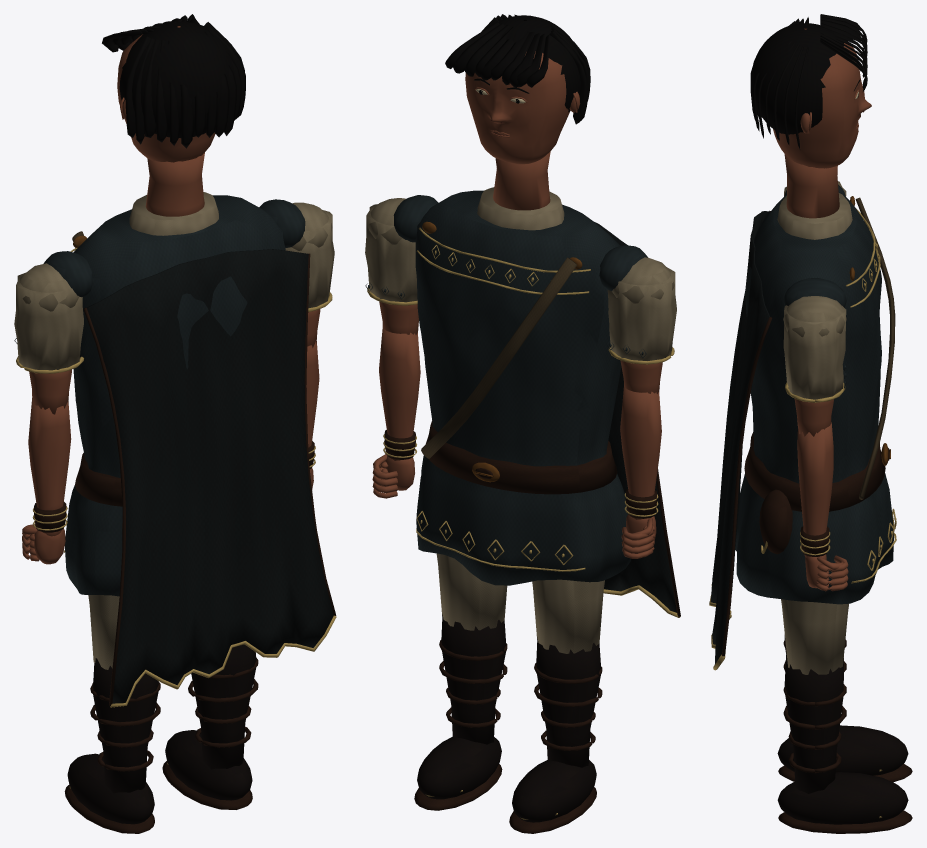
Rendered from traveler_lod1.glb.
3 views of the same model, side by side, from view 1: azimuth 30°, elevation 25°; view 2: azimuth 150°, elevation 25°; view 3: azimuth 270°, elevation 25° (orthographic). The views are drawn at different scales.
Visible parts, largest first — view 1: Traveler_Torso.001, Traveler_Head.001, Traveler_UpperArm_0.001, Traveler_Shin_0.001, Traveler_Shin_1.001, Traveler_Forearm_0.001, Traveler_Foot_0.001, Traveler_Foot_1.001, Traveler_UpperArm_1.001, Traveler_Thigh_0.001, Traveler_Hand_0.001, Traveler_Forearm_1.001; view 2: Traveler_Torso.001, Traveler_Head.001, Traveler_UpperArm_0.001, Traveler_Shin_0.001, Traveler_Shin_1.001, Traveler_UpperArm_1.001, Traveler_Foot_1.001, Traveler_Foot_0.001, Traveler_Thigh_0.001, Traveler_Forearm_0.001, Traveler_Forearm_1.001, Traveler_Thigh_1.001 (+2 smaller); view 3: Traveler_Torso.001, Traveler_Head.001, Traveler_UpperArm_1.001, Traveler_Foot_1.001, Traveler_Shin_1.001, Traveler_Thigh_1.001, Traveler_Forearm_1.001, Traveler_Foot_0.001, Traveler_Hand_1.001.
Part boxes in pixels (x1,y1,x2,y2): Traveler_Torso.001: (43, 152, 336, 707); Traveler_Head.001: (102, 14, 245, 162); Traveler_UpperArm_0.001: (14, 263, 83, 414); Traveler_Shin_0.001: (90, 658, 160, 793); Traveler_Shin_1.001: (188, 644, 258, 769); Traveler_Forearm_0.001: (28, 397, 71, 536); Traveler_Foot_0.001: (64, 753, 154, 833); Traveler_Foot_1.001: (162, 730, 252, 809); Traveler_UpperArm_1.001: (285, 202, 334, 347); Traveler_Thigh_0.001: (88, 595, 119, 669); Traveler_Hand_0.001: (22, 524, 65, 564); Traveler_Forearm_1.001: (306, 341, 319, 469); Traveler_Torso.001: (393, 151, 680, 617); Traveler_Head.001: (445, 14, 590, 164); Traveler_UpperArm_0.001: (607, 257, 676, 393); Traveler_Shin_0.001: (534, 637, 602, 767); Traveler_Shin_1.001: (439, 614, 507, 744); Traveler_UpperArm_1.001: (365, 198, 418, 334); Traveler_Foot_1.001: (414, 736, 502, 810); Traveler_Foot_0.001: (509, 759, 596, 833); Traveler_Thigh_0.001: (532, 579, 604, 653); Traveler_Forearm_0.001: (620, 387, 661, 519); Traveler_Forearm_1.001: (379, 328, 420, 460); Traveler_Thigh_1.001: (436, 553, 507, 630); Traveler_Torso.001: (709, 154, 896, 670); Traveler_Head.001: (750, 14, 871, 168); Traveler_UpperArm_1.001: (783, 296, 846, 436); Traveler_Foot_1.001: (777, 772, 912, 833); Traveler_Shin_1.001: (783, 654, 846, 793); Traveler_Thigh_1.001: (781, 599, 848, 674); Traveler_Forearm_1.001: (797, 422, 833, 557); Traveler_Foot_0.001: (777, 725, 912, 782); Traveler_Hand_1.001: (805, 554, 848, 591).
Size of the model in its own units: 0.757 by 1.83 by 0.4352.
Materials: 2 (2 with a texture image).
